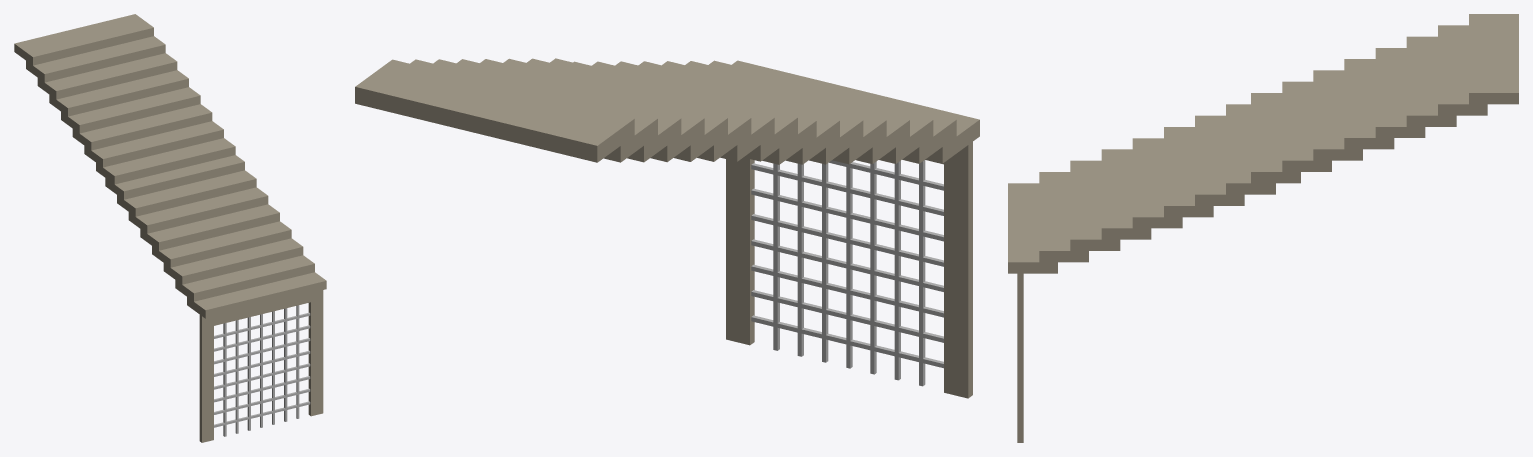
File: Wall Portcullis (Test).fbx
3 renders of one model, left to right at view 1: azimuth 30°, elevation 25°; view 2: azimuth 150°, elevation 25°; view 3: azimuth 270°, elevation 25°, orthographic. The views are drawn at different scales.
Visible parts, largest first — view 1: Wall_Regular_Seating17; view 2: Wall_Regular_Seating17; view 3: Wall_Regular_Seating17.
Boxes of the visible parts, x1,y1,x2,y2 form: Wall_Regular_Seating17: (14, 14, 326, 442); Wall_Regular_Seating17: (355, 58, 979, 398); Wall_Regular_Seating17: (1008, 14, 1518, 442).
Bounding box in the file's own units: 300 × 620 × 820.
